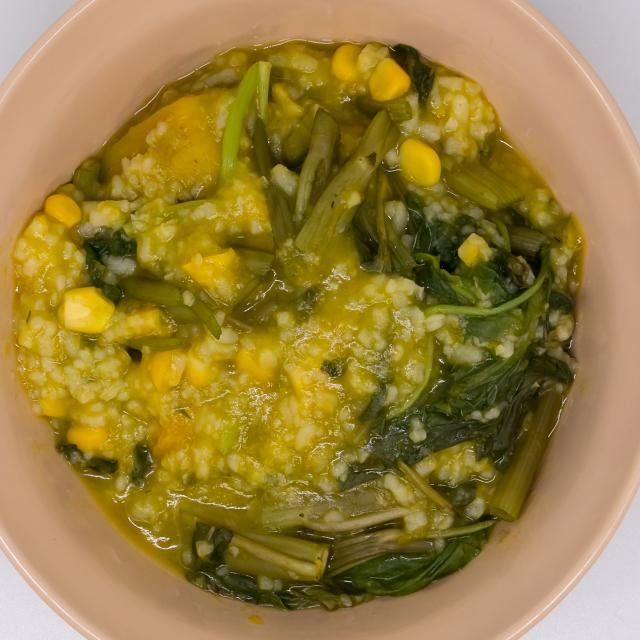Bubur-Manado: (7, 27, 597, 604)
